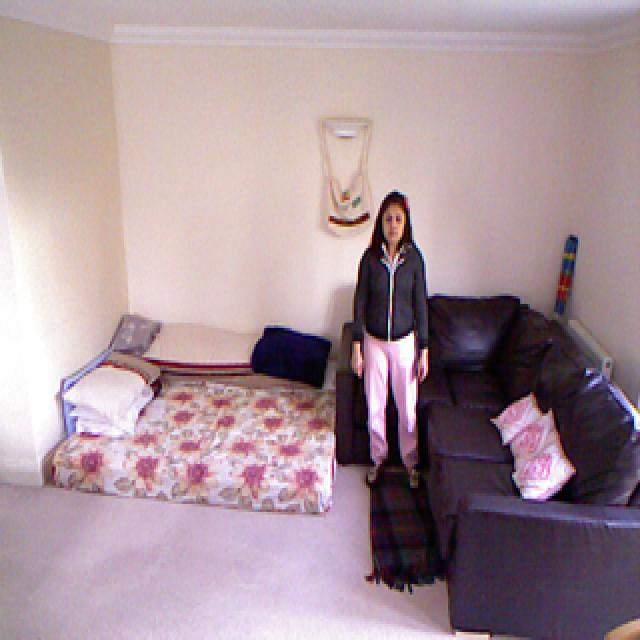standing: (350, 191, 431, 495)
